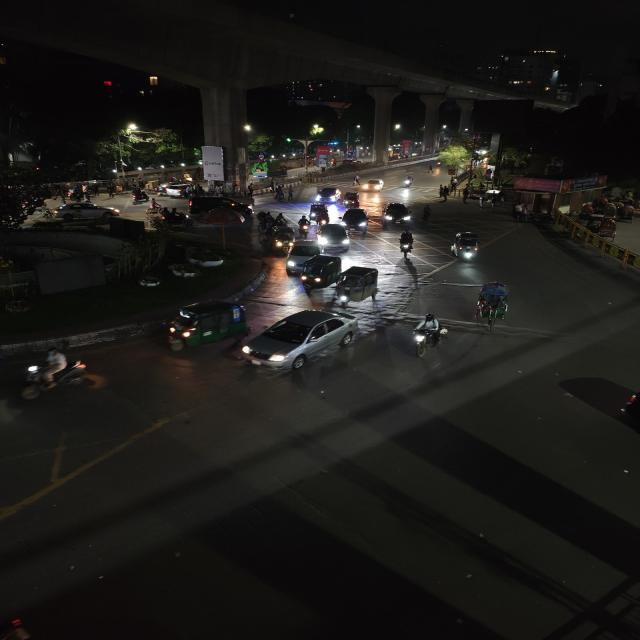bicycle: (144, 203, 166, 215)
car: (235, 306, 364, 377), (186, 195, 252, 221), (44, 203, 120, 222), (282, 240, 322, 272), (317, 222, 353, 252), (339, 208, 371, 236), (354, 173, 387, 193), (314, 184, 343, 206), (163, 182, 190, 198)
cng: (164, 298, 245, 349), (333, 265, 383, 309), (299, 253, 343, 291), (446, 230, 485, 266), (337, 207, 372, 236), (380, 200, 414, 229), (269, 224, 296, 252), (308, 202, 330, 226), (343, 190, 362, 208)
motorcycle: (16, 351, 90, 402), (408, 312, 453, 356), (395, 229, 418, 261), (296, 214, 314, 238), (397, 172, 417, 190), (128, 189, 151, 203)
pedestrian: (394, 230, 418, 260), (511, 202, 528, 223), (419, 204, 435, 226), (436, 184, 450, 202), (478, 193, 492, 210), (460, 187, 472, 206), (284, 184, 296, 202), (273, 186, 284, 200), (428, 164, 437, 177)
rickshaw: (471, 280, 516, 330), (380, 200, 415, 229), (256, 212, 286, 230)
